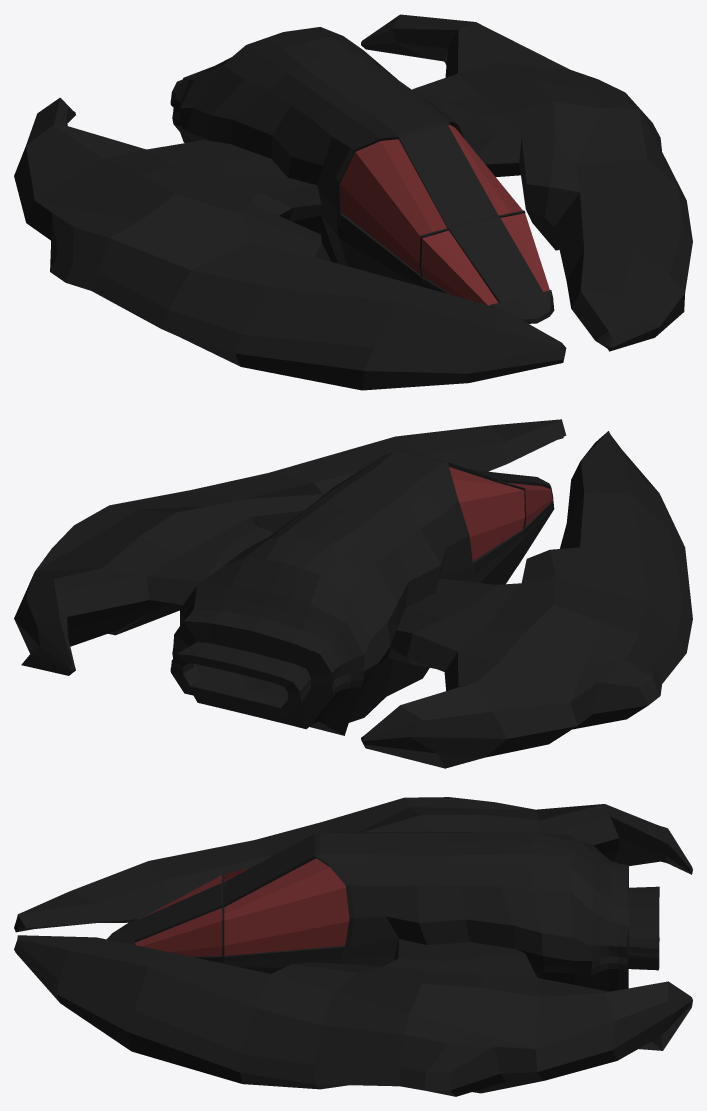
The model's file is Spaceship2.fbx.
3 views of the same model, one above another, from view 1: azimuth 30°, elevation 25°; view 2: azimuth 150°, elevation 25°; view 3: azimuth 270°, elevation 25° (orthographic). The views are drawn at different scales.
Parts seen in each view (by area): view 1: Cube; view 2: Cube; view 3: Cube.
Boxes of the visible parts, bbox=[...] form: Cube: bbox=[14, 14, 692, 390]; Cube: bbox=[14, 419, 692, 768]; Cube: bbox=[14, 797, 692, 1096].
Size of the model in its own units: 1222 by 342 by 1310.
